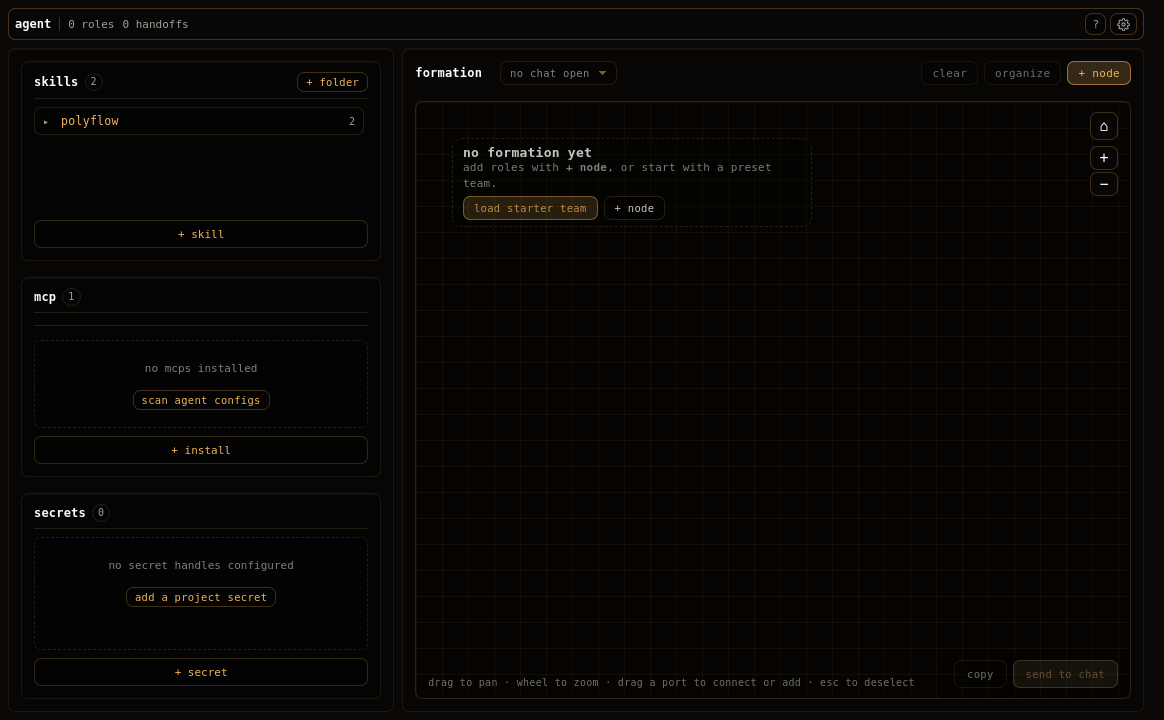
it: AgentPanel integration › skillset_manifest_skills_render_when_skill_list_is_incomplete
Click the button "▸ polyflow 2". click: (90, 121)
box: [35,108,363,134]
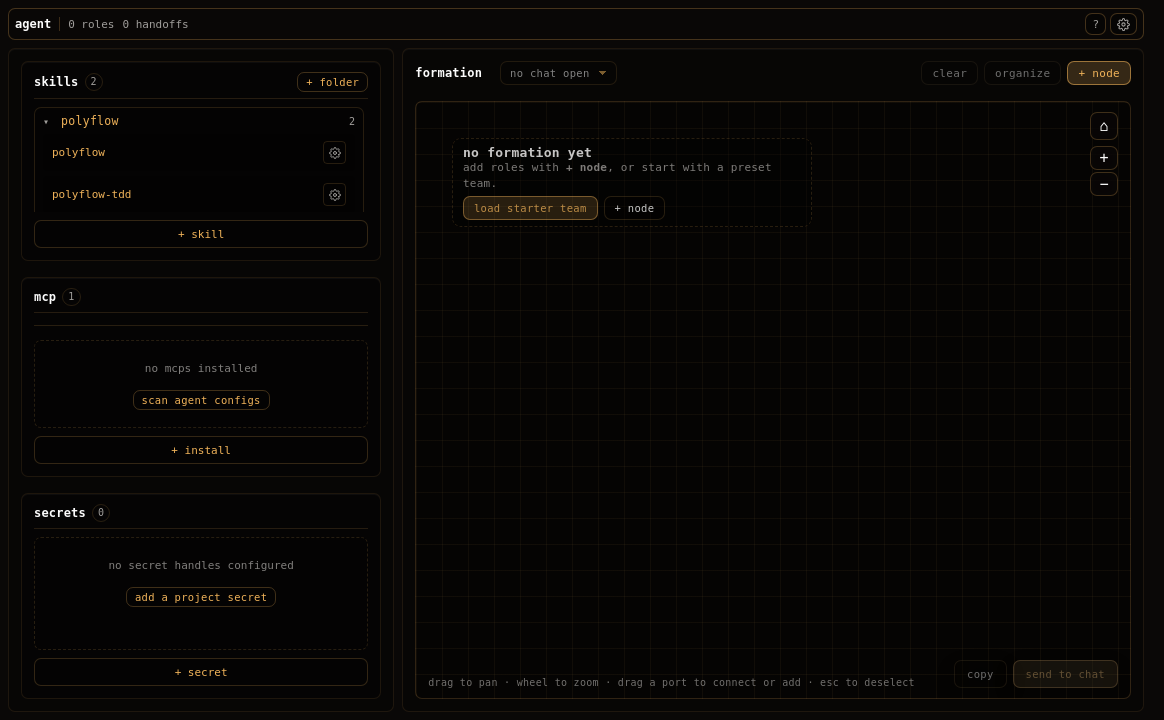
Now the text "polyflow-tdd" is shown, box [52,188,132,201]
